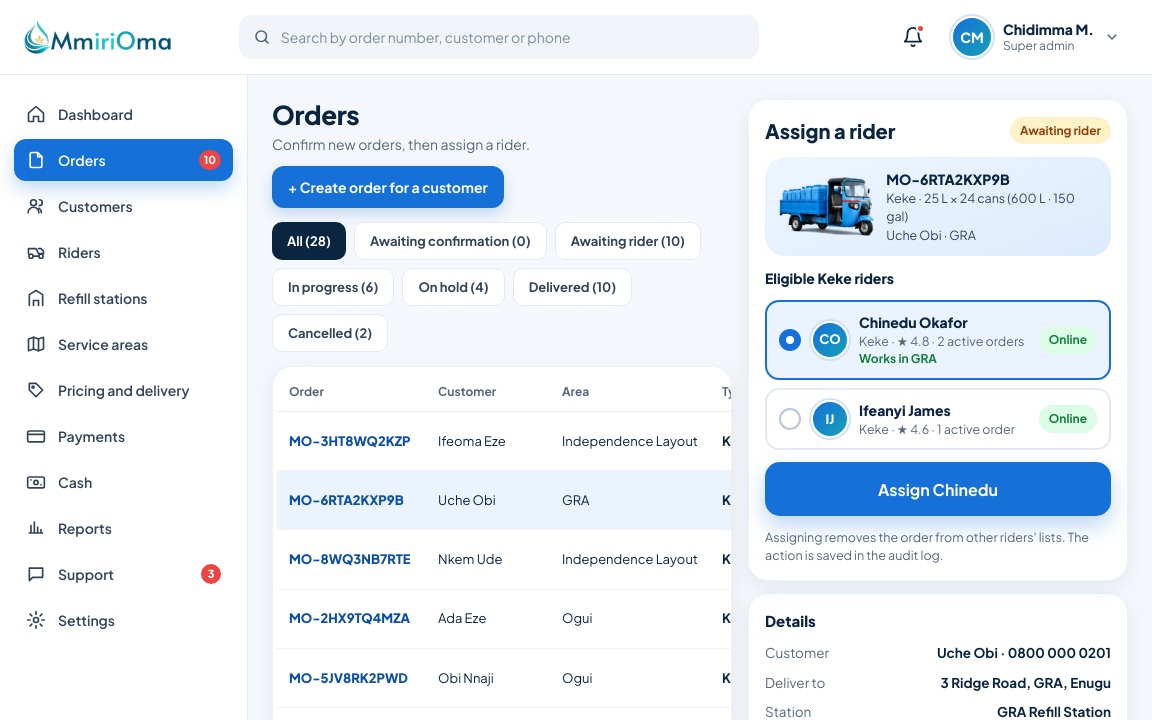
Scenario: admin pages › assign a rider from the orders panel
Click the button "Assign Chinedu" at (938,489), box [765, 462, 1111, 516]
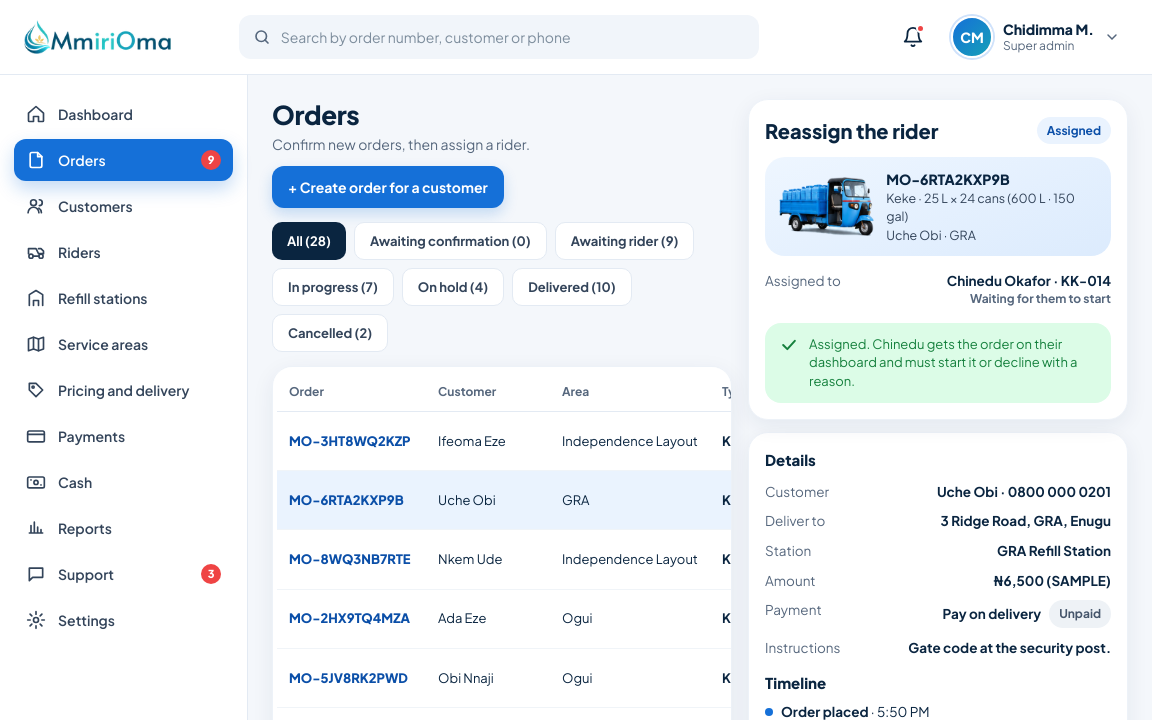
expect the text "Assigned." is shown: met, box [809, 336, 872, 352]
